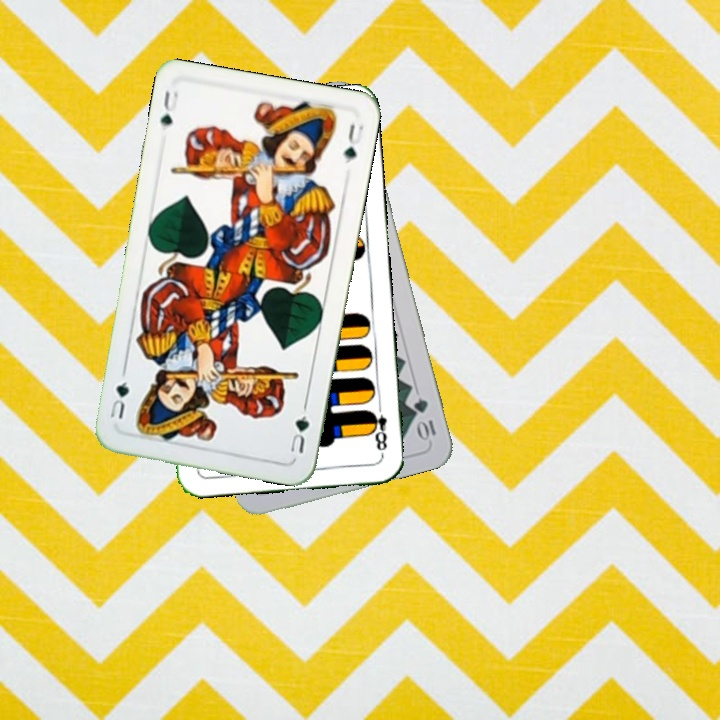E8: (365, 398, 390, 458)
G10: (410, 394, 439, 443)
GU: (285, 411, 312, 457), (156, 87, 181, 129)
